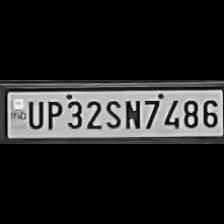2: (84, 97, 103, 130)
3: (62, 97, 82, 130)
4: (160, 95, 180, 129)
6: (199, 96, 219, 128)
7: (140, 96, 160, 130)
8: (180, 96, 198, 128)
N: (122, 97, 140, 130)
P: (42, 97, 62, 130)
S: (102, 97, 122, 129)
U: (23, 97, 43, 129)
